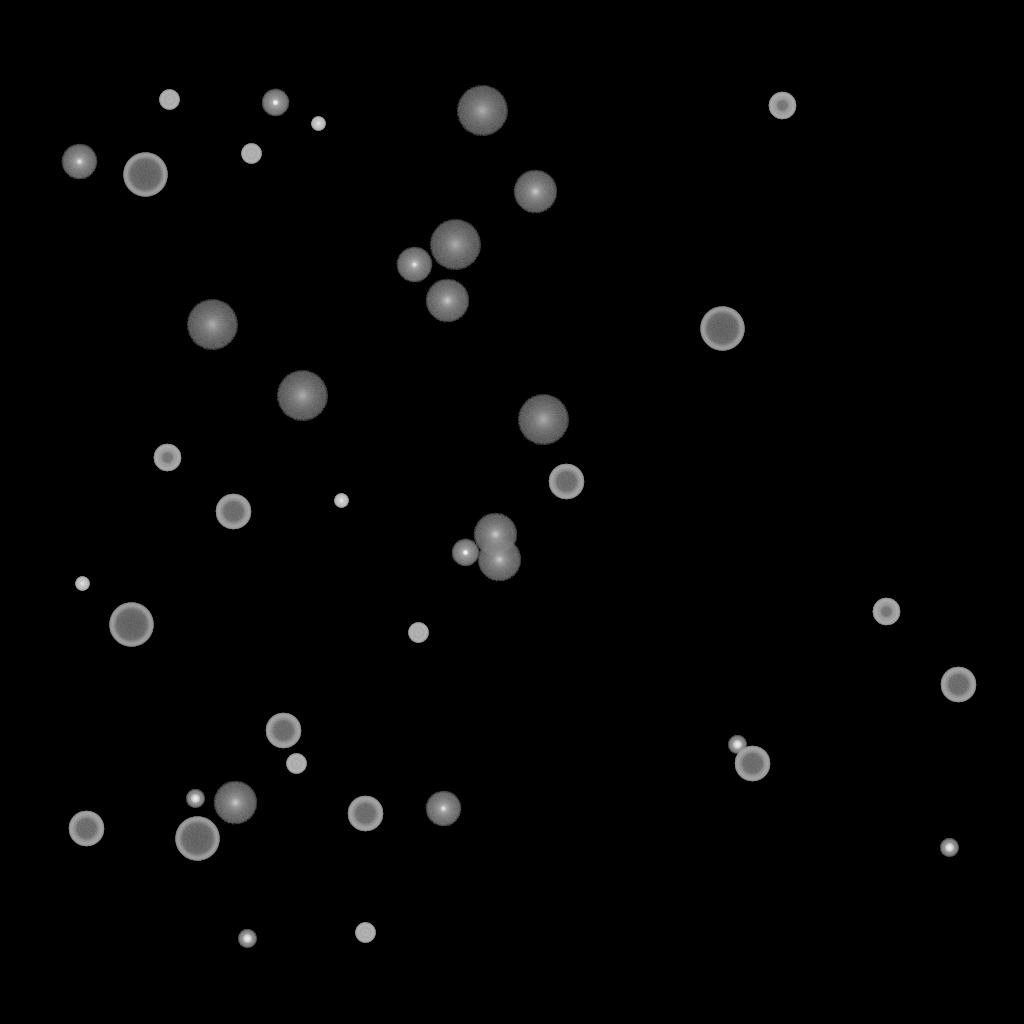depth:-10: (451, 539, 479, 567), (261, 89, 289, 117)
depth:-20: (238, 930, 256, 948), (940, 839, 958, 857), (186, 790, 204, 808), (728, 736, 746, 754)
depth:-30: (75, 577, 89, 591), (311, 117, 325, 131), (334, 494, 348, 508)
depth:-40: (408, 623, 428, 643), (286, 754, 306, 774), (159, 90, 179, 110), (355, 923, 375, 943), (241, 144, 261, 164)
depth:-50: (153, 444, 181, 472), (872, 598, 900, 626), (768, 92, 796, 120)
depth:-60: (68, 811, 104, 847), (940, 667, 976, 703), (347, 796, 383, 832), (548, 464, 584, 500), (265, 713, 301, 749), (734, 746, 770, 782), (215, 494, 251, 530)
depth:-70: (175, 817, 219, 861), (109, 603, 153, 647), (700, 307, 744, 351), (123, 153, 167, 197)
depth:0: (61, 144, 97, 180), (425, 791, 461, 827), (396, 247, 432, 283)
depth:10: (477, 538, 521, 582), (473, 513, 517, 557), (213, 781, 257, 825), (513, 170, 557, 214), (425, 279, 469, 323)
depth:20: (517, 395, 569, 445), (186, 300, 238, 350), (429, 220, 481, 270), (276, 371, 328, 421), (456, 86, 508, 136)
